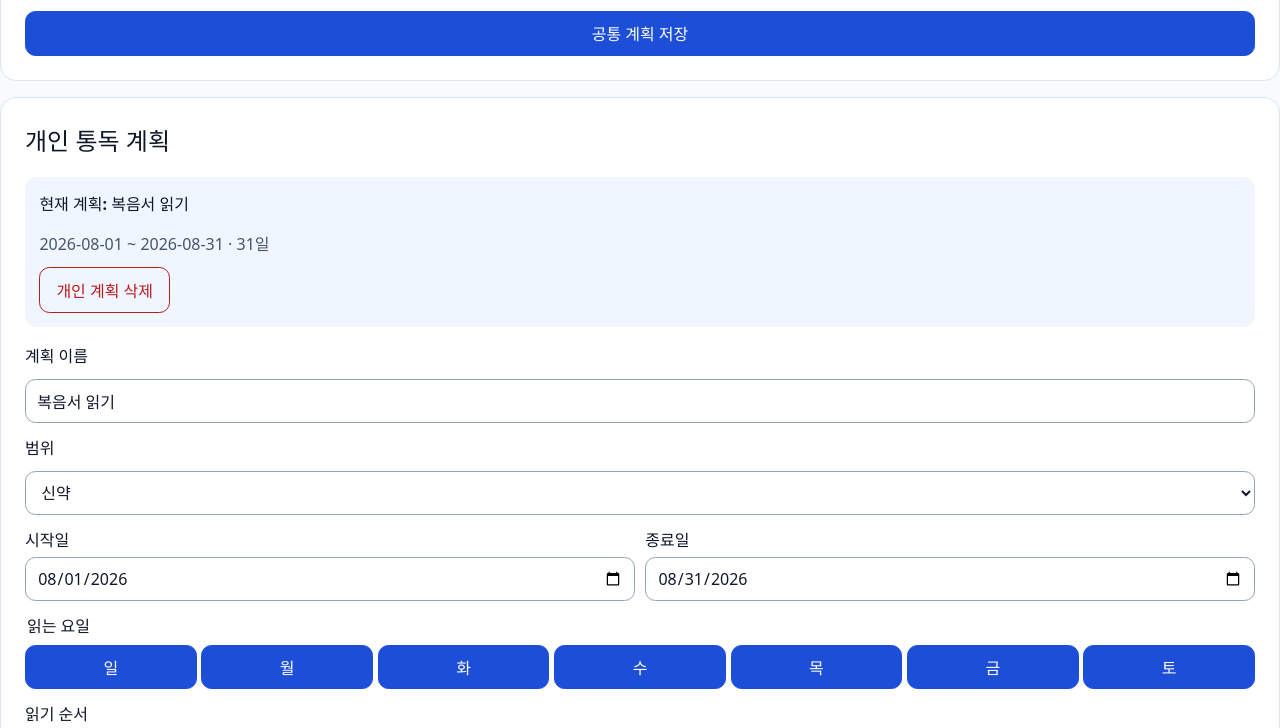
it: PlanSettingsPage › 잘못된 개인 입력은 한국어 오류를 알리고 기존 계획과 저장 콜백을 보존한다
(page scrolled)
Clear the field labelled "계획 이름" at (640, 401), box [25,379,1255,423]
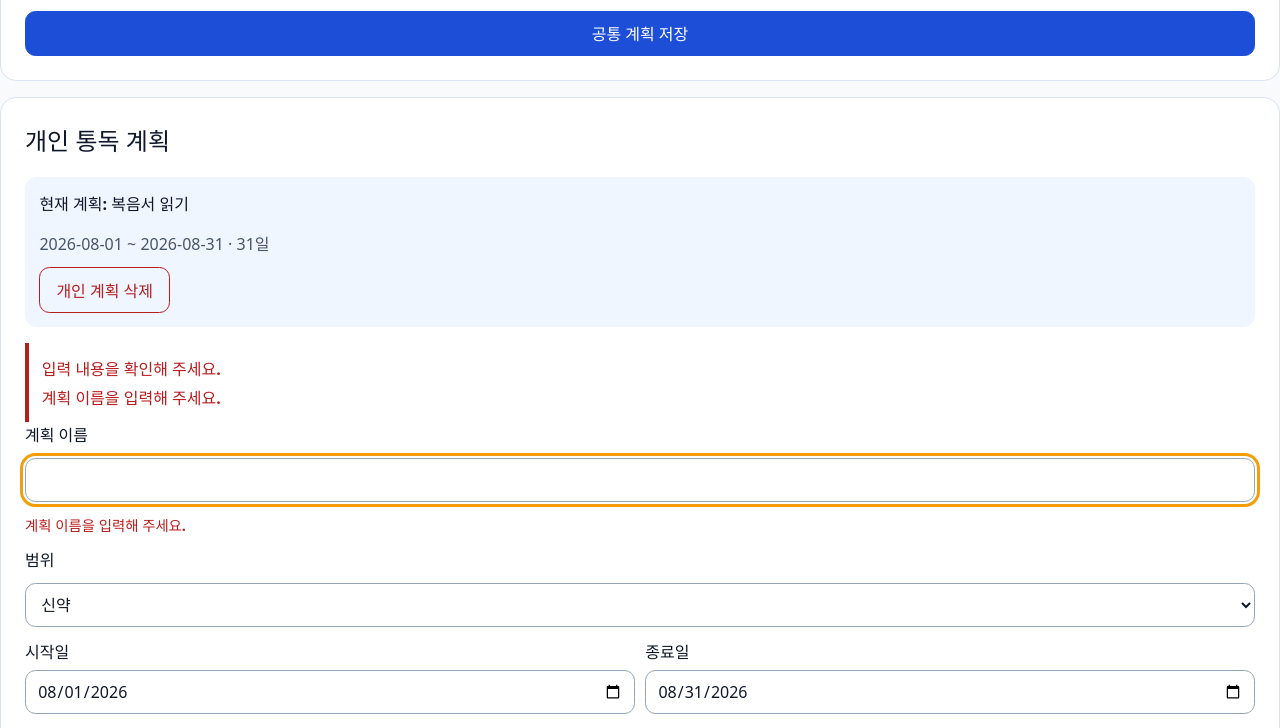
Expected: the text "현재 계획: 복음서 읽기" is shown, [39,193,189,215]
Result: the message shows "입력 내용을 확인해 주세요." at [42,358,221,380]
Result: the 2nd text "계획 이름을 입력해 주세요." is shown at [25,516,186,535]
